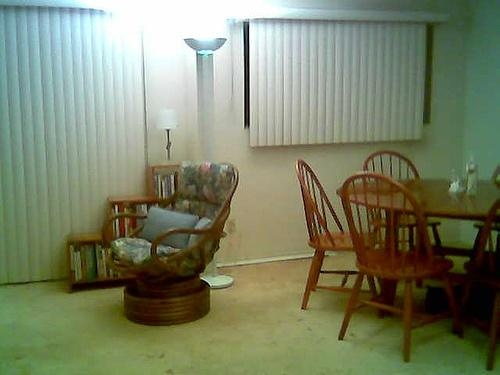chair: (339, 174, 465, 363), (102, 160, 240, 327), (295, 158, 389, 319), (363, 149, 445, 258)
diningtable: (337, 179, 500, 319)
